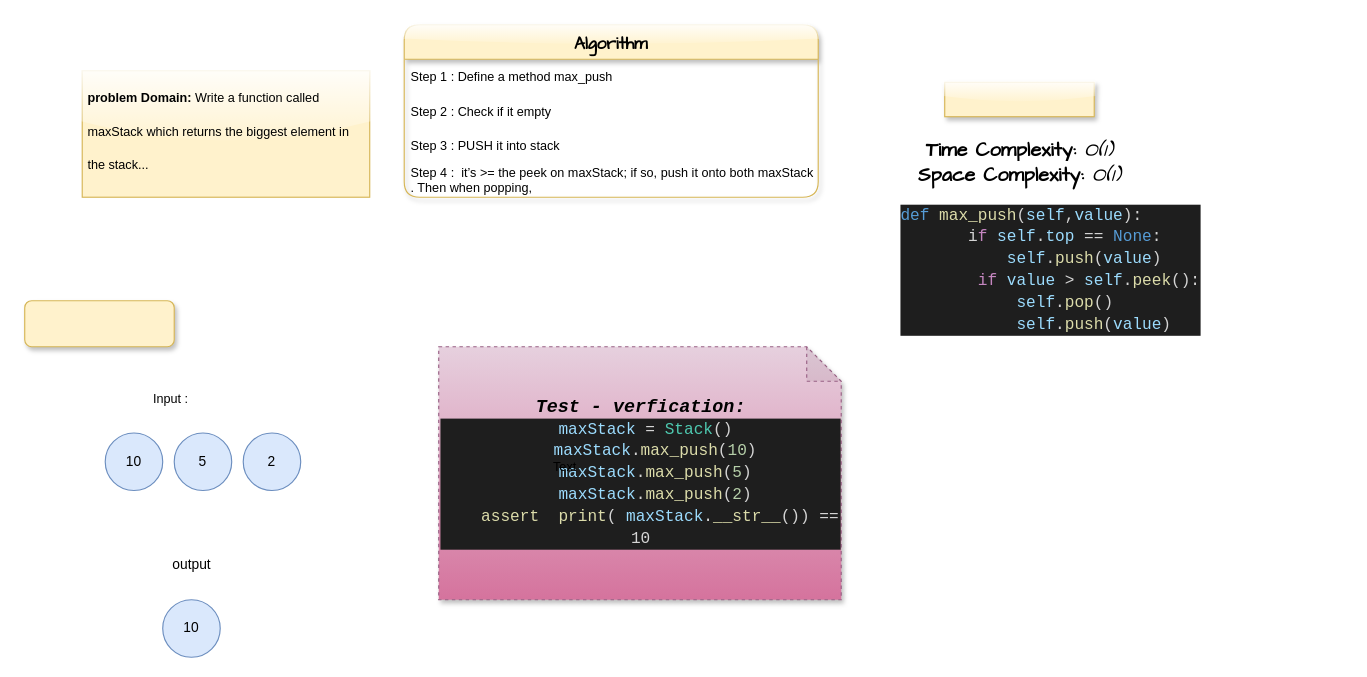
The diagram is 1367 pixels wide and 677 high, and some of its shapes have lost their labels. Here are the shapes that lost their labels. From the top down, the centre of each, then its label:
At point 1020,100: "code".
At point 100,325: "Visualization".
